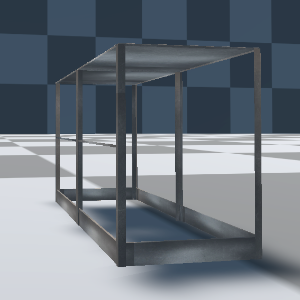Rack: (53, 42, 264, 267)
